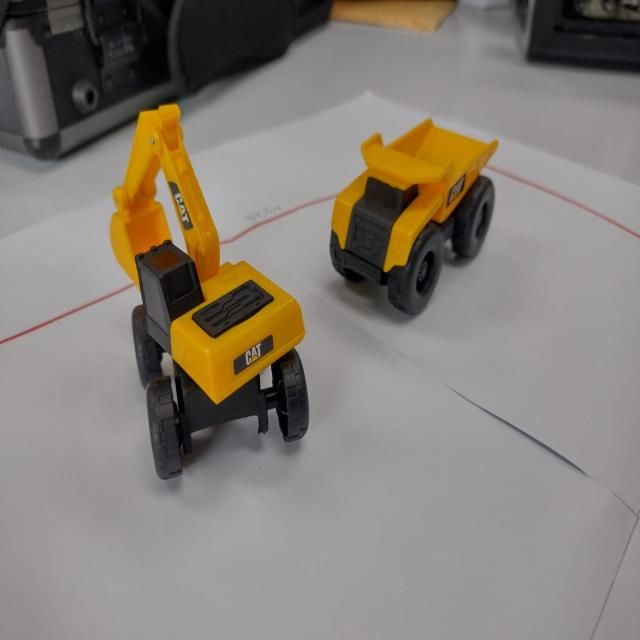dump-truck: (330, 115, 500, 314)
excavator: (109, 103, 311, 482)
